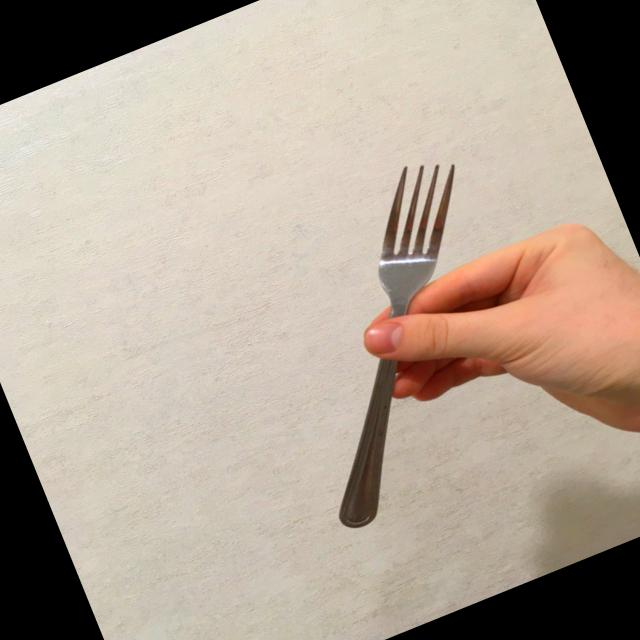fork: (224, 147, 570, 533)
